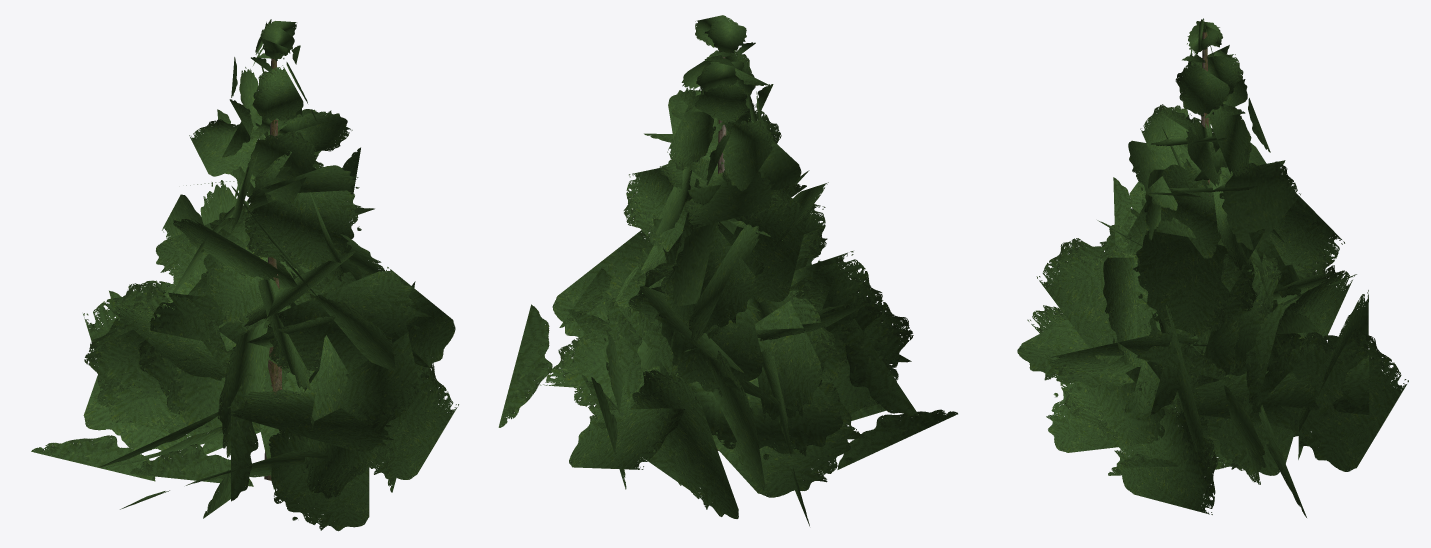
File: tree_conifer.glb
3 views of the same model, side by side, from view 1: azimuth 30°, elevation 25°; view 2: azimuth 150°, elevation 25°; view 3: azimuth 270°, elevation 25° (orthographic). The views are drawn at different scales.
Visible parts, largest first — view 1: tree_conifer_foliage, tree_conifer_body; view 2: tree_conifer_foliage; view 3: tree_conifer_foliage.
Boxes of the visible parts, x1,y1,x2,y2 form: tree_conifer_foliage: (31, 19, 458, 531); tree_conifer_body: (264, 58, 282, 480); tree_conifer_foliage: (498, 15, 957, 526); tree_conifer_foliage: (1017, 18, 1408, 517).
Bounding box in the file's own units: 0.3894 × 0.4127 × 0.3574.
Materials: 2 (2 with a texture image).
